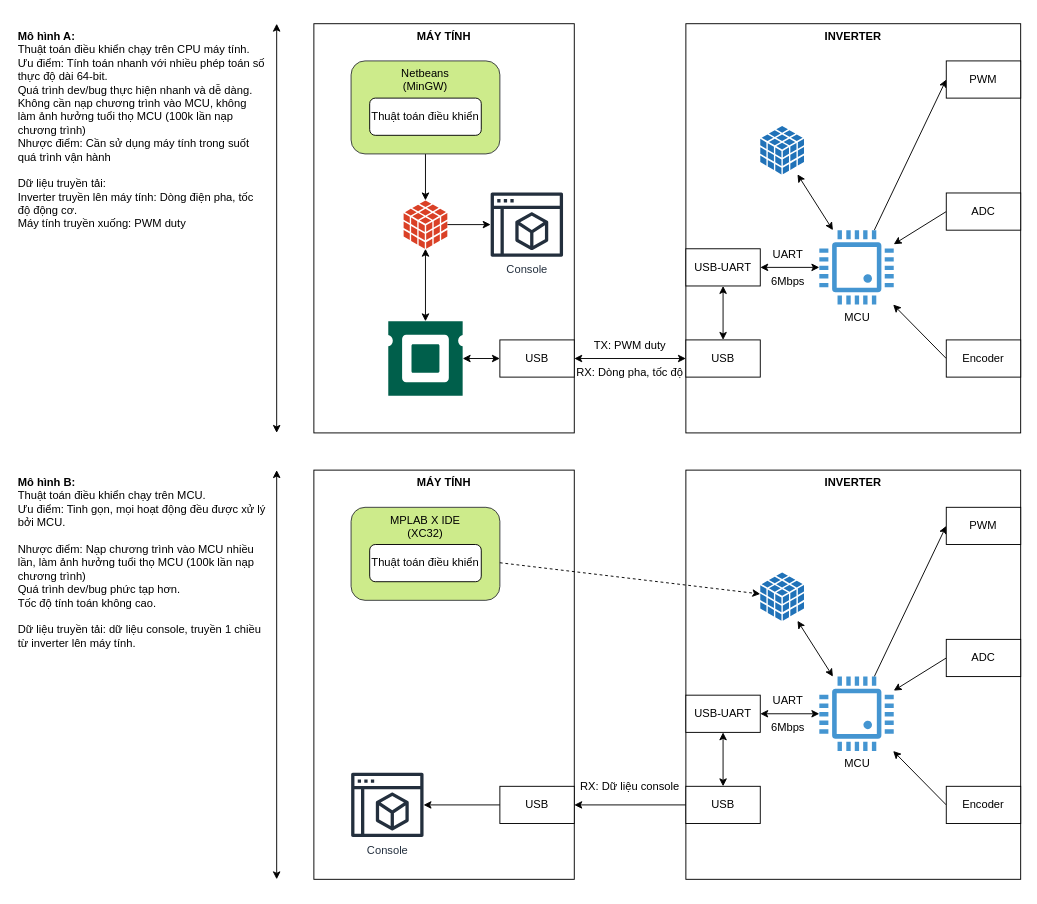
Image size: 1037x904. Some labels were removed from this diagram. Each missing label, with the centre of its shape:
Chương trình (Giao tiếp): the point at 782,150
Chương trình (Điều khiển): the point at 782,596
CPU (Windows OS): the point at 425,358
File thực thi: the point at 425,224
